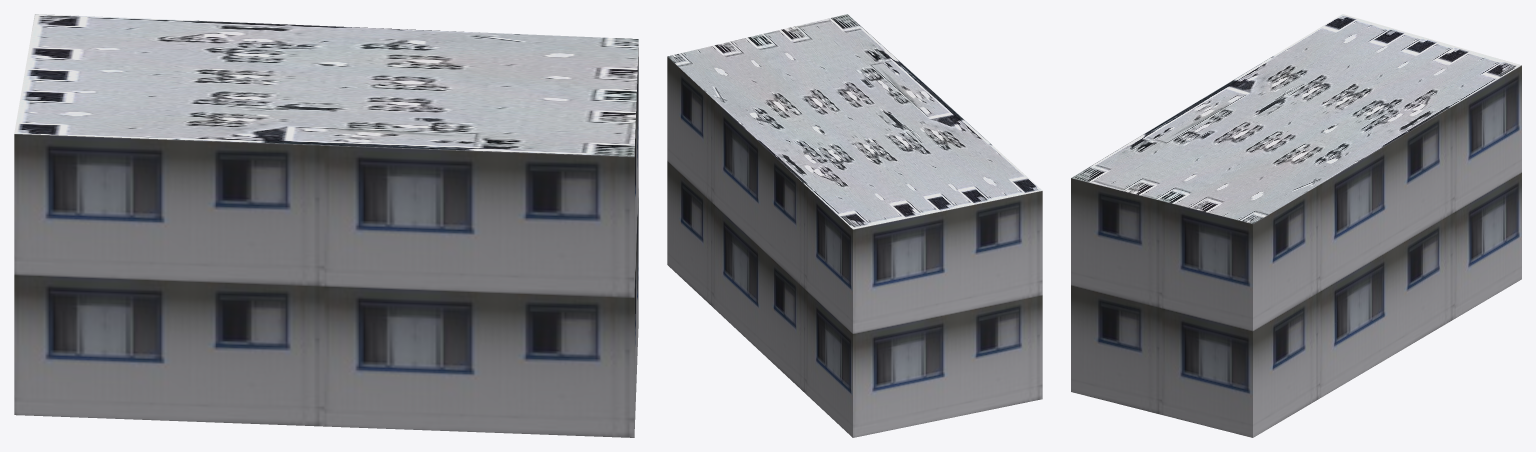
File: ResTex__356.fbx
The picture shows the model from 3 angles, left to right: view 1: azimuth 30°, elevation 25°; view 2: azimuth 150°, elevation 25°; view 3: azimuth 270°, elevation 25°; orthographic projection. The views are drawn at different scales.
Parts seen in each view (by area): view 1: CityEngineMaterial_9_m, CityEngineMaterial_4_m; view 2: CityEngineMaterial_9_m, CityEngineMaterial_4_m; view 3: CityEngineMaterial_9_m, CityEngineMaterial_4_m.
Boxes of the visible parts, box(x1,y1,x2,y2) form: CityEngineMaterial_9_m: box(14, 47, 638, 437); CityEngineMaterial_4_m: box(14, 14, 638, 156); CityEngineMaterial_9_m: box(667, 57, 1042, 437); CityEngineMaterial_4_m: box(667, 14, 1042, 229); CityEngineMaterial_9_m: box(1071, 65, 1521, 437); CityEngineMaterial_4_m: box(1071, 14, 1521, 223).
Size of the model in its own units: 12.63 by 6 by 11.45.
2 materials, 2 textured.
